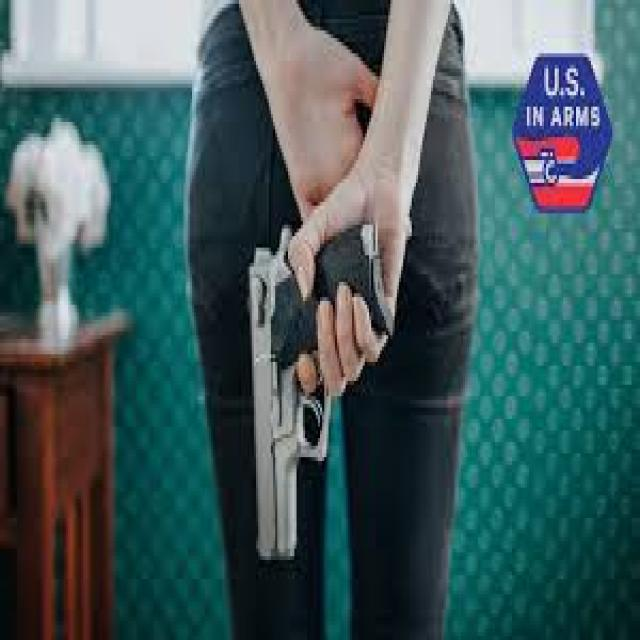weapons: (231, 183, 419, 586)
